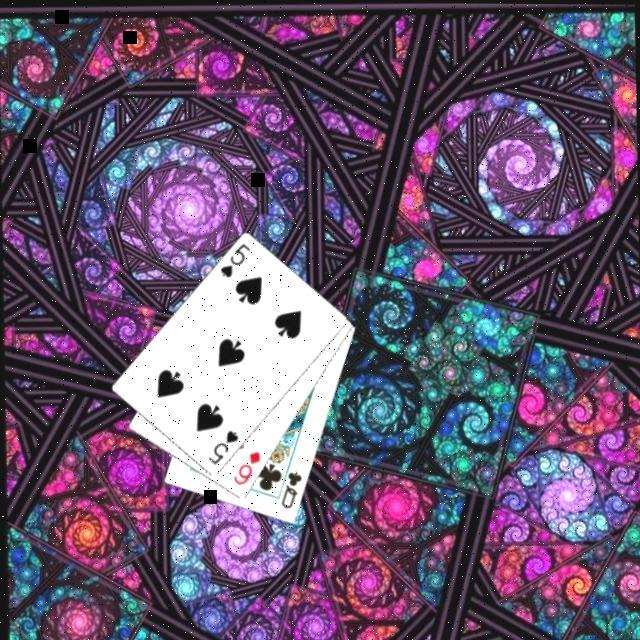5S: (216, 240, 254, 282), (205, 427, 242, 468)
6D: (230, 448, 264, 488)
QC: (278, 468, 306, 512)
